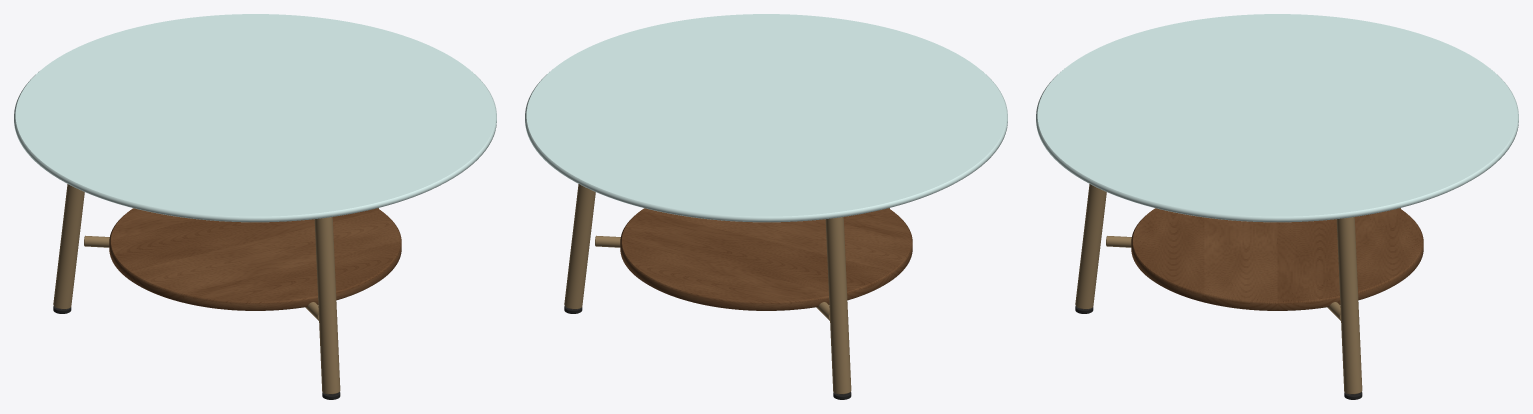
3 views of the same model, side by side, from view 1: azimuth 30°, elevation 25°; view 2: azimuth 150°, elevation 25°; view 3: azimuth 270°, elevation 25° (orthographic).
Parts seen in each view (by area): view 1: 12 mm clear circular glass top, Walnut lower circular shelf, Splayed bronze leg.002, Splayed bronze leg.001; view 2: 12 mm clear circular glass top, Walnut lower circular shelf, Splayed bronze leg.001, Splayed bronze leg; view 3: 12 mm clear circular glass top, Walnut lower circular shelf, Splayed bronze leg, Splayed bronze leg.002.
Boxes of the visible parts, <box> form: 12 mm clear circular glass top: <box>14,14,496,222</box>; Walnut lower circular shelf: <box>109,208,401,310</box>; Splayed bronze leg.002: <box>314,217,340,394</box>; Splayed bronze leg.001: <box>53,184,84,309</box>; 12 mm clear circular glass top: <box>525,14,1007,222</box>; Walnut lower circular shelf: <box>620,208,912,310</box>; Splayed bronze leg.001: <box>825,217,851,394</box>; Splayed bronze leg: <box>564,184,595,309</box>; 12 mm clear circular glass top: <box>1036,14,1518,222</box>; Walnut lower circular shelf: <box>1131,208,1423,310</box>; Splayed bronze leg: <box>1336,217,1362,394</box>; Splayed bronze leg.002: <box>1075,184,1106,309</box>.
Size of the model in its own units: 0.9 by 0.422 by 0.9.
5 materials, 2 textured.
